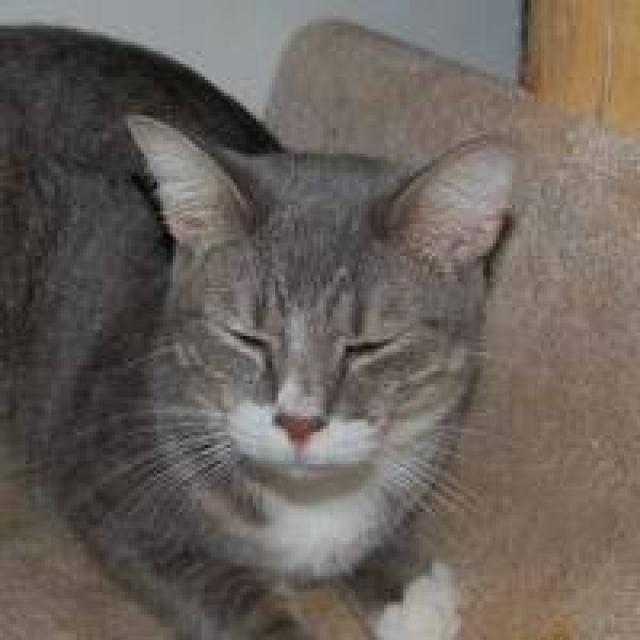Cat: (119, 108, 524, 495)
